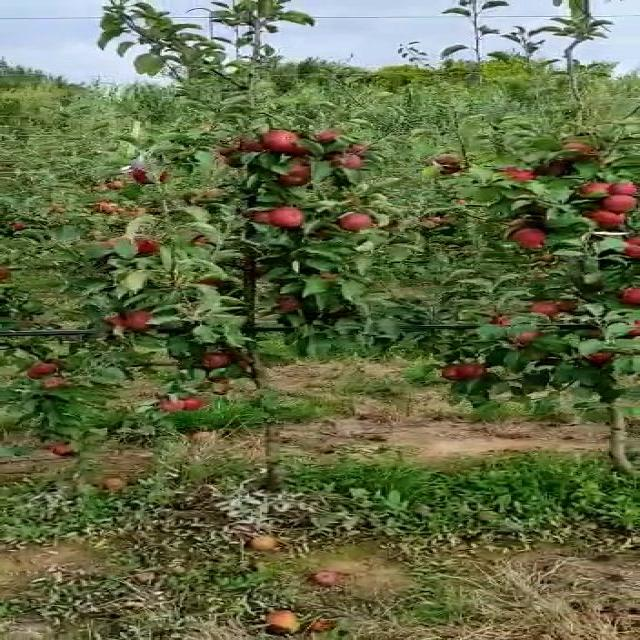100-_ripeness: (260, 129, 304, 155), (507, 226, 551, 249), (271, 203, 311, 227), (527, 295, 564, 317), (336, 212, 373, 233), (600, 193, 640, 212), (444, 360, 480, 380), (593, 208, 629, 227), (125, 309, 156, 331), (131, 236, 165, 255), (562, 141, 598, 158), (206, 350, 234, 369), (166, 399, 197, 415), (580, 183, 613, 198), (31, 360, 62, 375)
